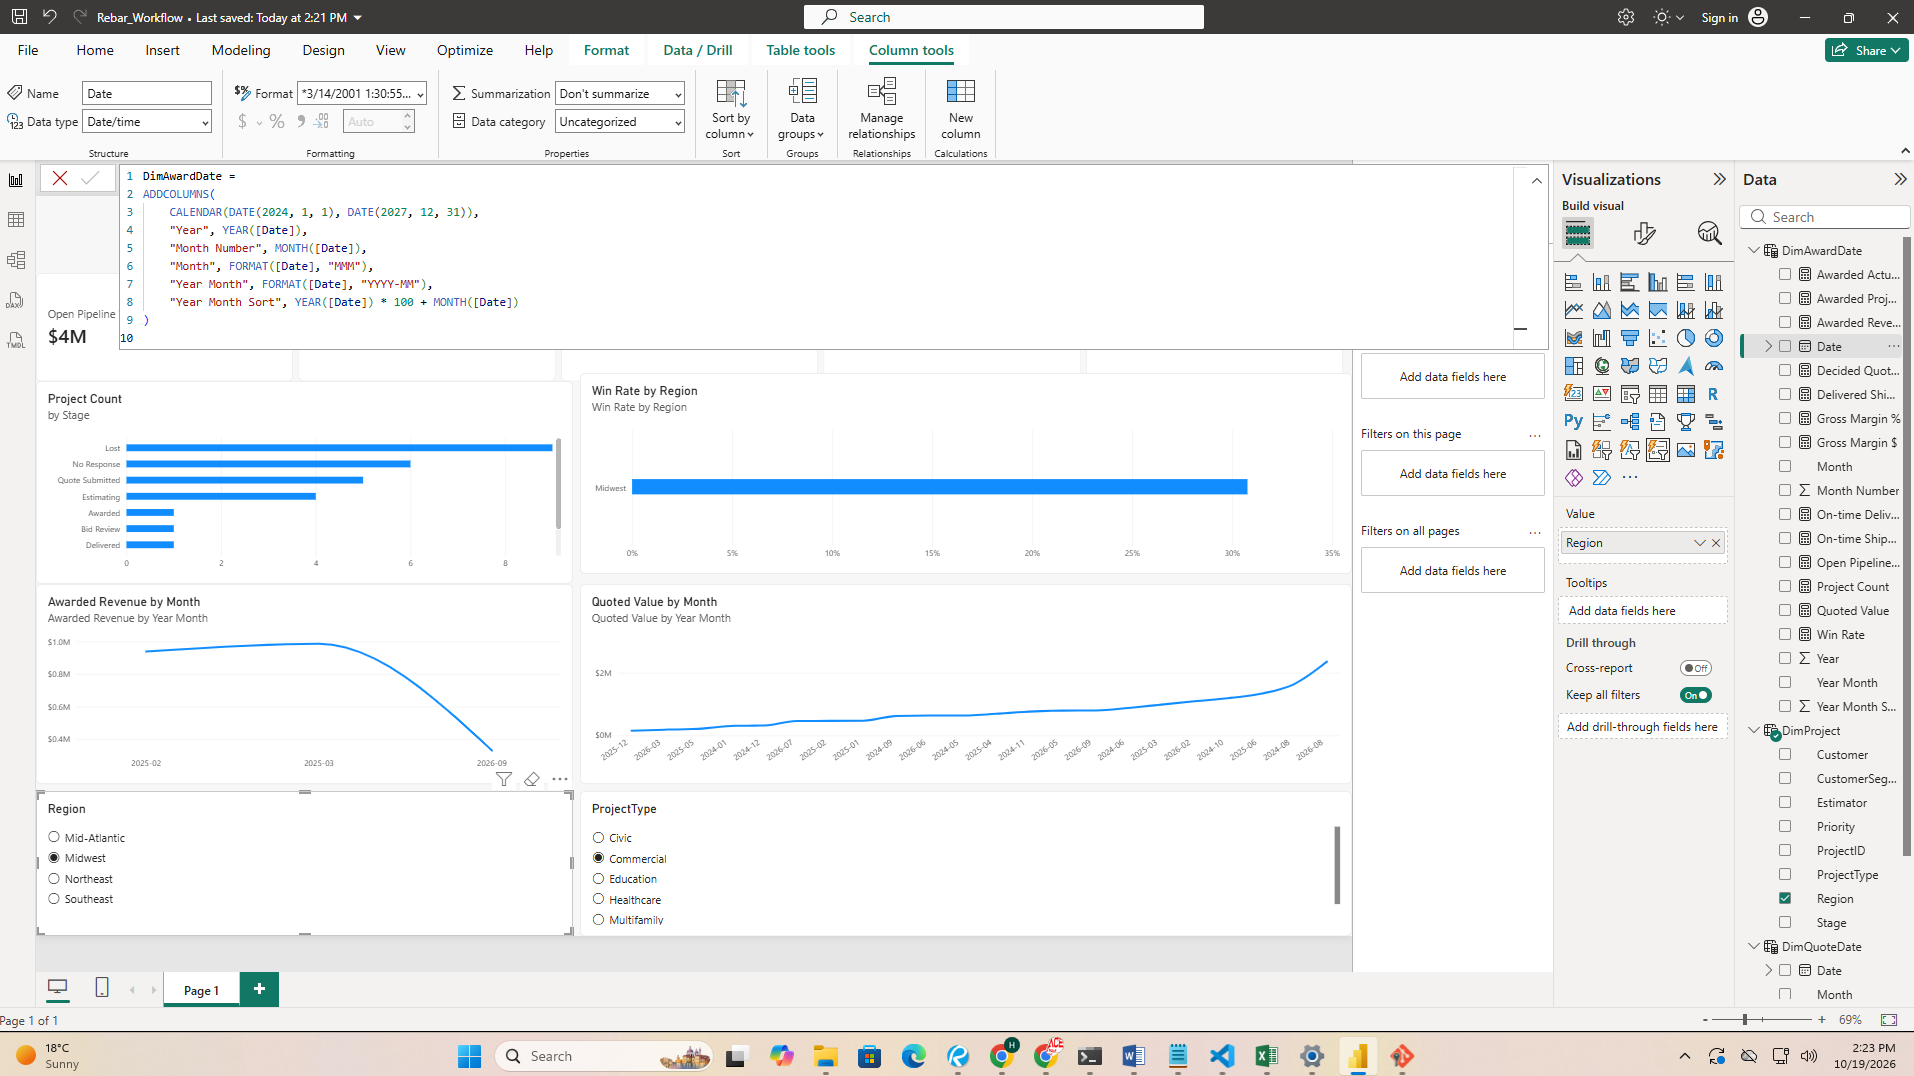

The page's visual inventory and layout, read from the dashboard file:
{"tool":"powerbi","page":{"name":"Page 1","canvas":[1920,1080],"ordinal":0},"visuals":[{"type":"cardVisual","fields":{"Data":["DimAwardDate.Open Pipeline Value","DimAwardDate.Win Rate","DimAwardDate.Awarded Revenue","DimAwardDate.Gross Margin $","DimAwardDate.On-time Shipment %"]},"box":[0,111.7,1910,158.3],"z":0},{"type":"clusteredBarChart","fields":{"Category":["DimProject.Stage"],"Y":["DimAwardDate.Project Count"]},"box":[0,269.9,783.5,296.2],"z":1000},{"type":"clusteredBarChart","title":"Win Rate  by Region","fields":{"Category":["DimProject.Region"],"Y":["DimAwardDate.Win Rate"]},"box":[793.7,258.2,1126.3,293.3],"z":2000},{"type":"lineChart","title":"Awarded Revenue by Month","fields":{"Category":["DimAwardDate.Year Month"],"Y":["DimAwardDate.Awarded Revenue"]},"box":[0,566.1,783,292],"z":3000},{"type":"lineChart","title":"Quoted Value by Month","fields":{"Category":["DimQuoteDate.Year Month"],"Y":["DimAwardDate.Quoted Value"]},"box":[793.7,566.1,1126,292],"z":4000},{"type":"listSlicer","fields":{"Values":["DimProject.Region"]},"box":[0,868,783,212],"z":5000},{"type":"listSlicer","fields":{"Values":["DimProject.ProjectType"]},"box":[794,868,1126,212],"z":6000},{"type":"textbox","box":[0,0,1920.6,57.2],"z":7000},{"type":"textbox","box":[54.5,57.2,1866.1,43.9],"z":8000}]}

Visuals, with their boxes on the page's 1920x1080 design canvas (x1, y1, x2, y2). These are canvas units, not pixel positions in the 1914x1076 screenshot, which may show the page scaled, cropped or inside an application window:
cardVisual - DimAwardDate.Open Pipeline Value x DimAwardDate.Win Rate: (0,112,1910,270)
clusteredBarChart - DimProject.Stage x DimAwardDate.Project Count: (0,270,784,566)
"Win Rate  by Region" clusteredBarChart: (794,258,1920,552)
"Awarded Revenue by Month" lineChart: (0,566,783,858)
"Quoted Value by Month" lineChart: (794,566,1920,858)
listSlicer - DimProject.Region: (0,868,783,1080)
listSlicer - DimProject.ProjectType: (794,868,1920,1080)
textbox: (0,0,1921,57)
textbox: (54,57,1921,101)
